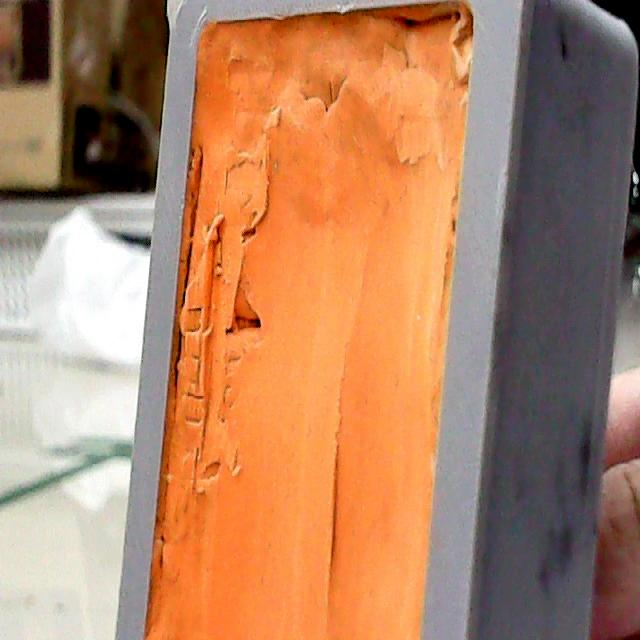block: (122, 7, 640, 640)
